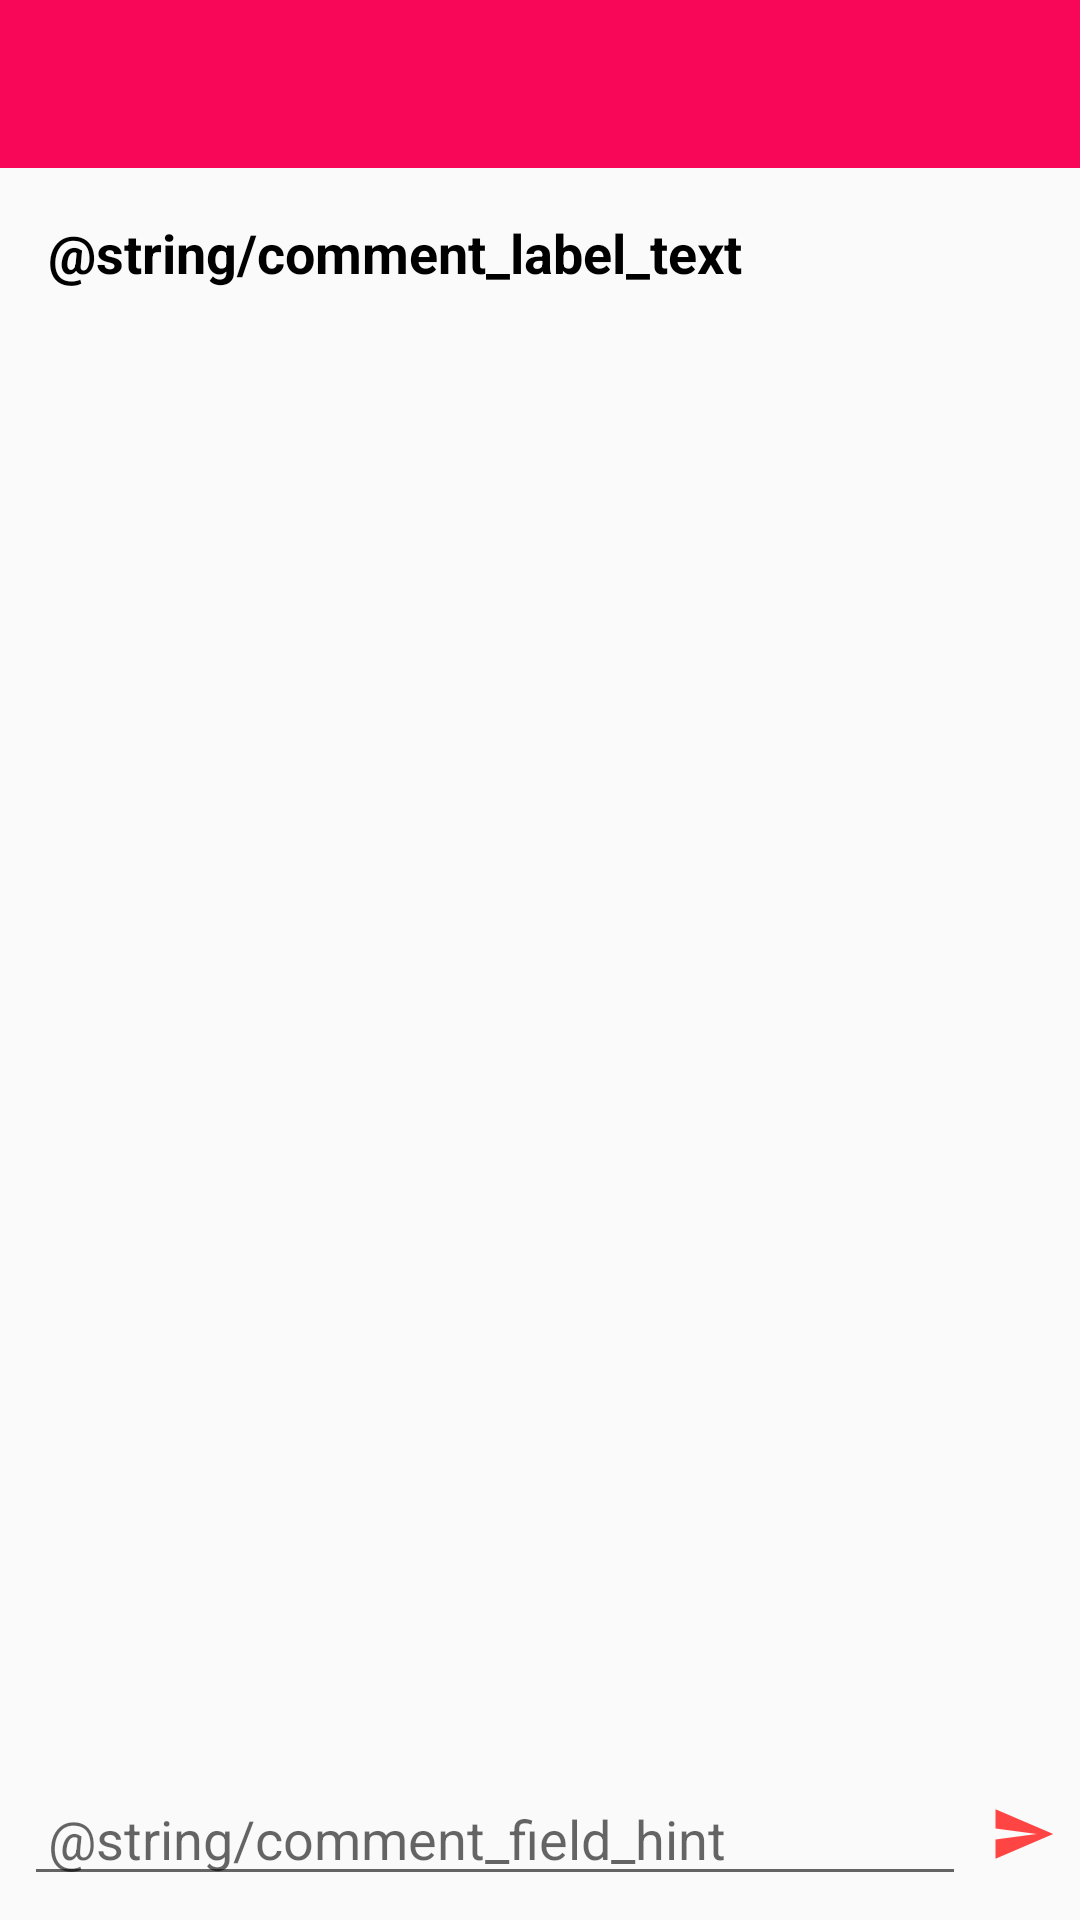

Screen size 1080px×1920px. Icon name, then its center in pixels as (x,y):
send: (1024,1834)
